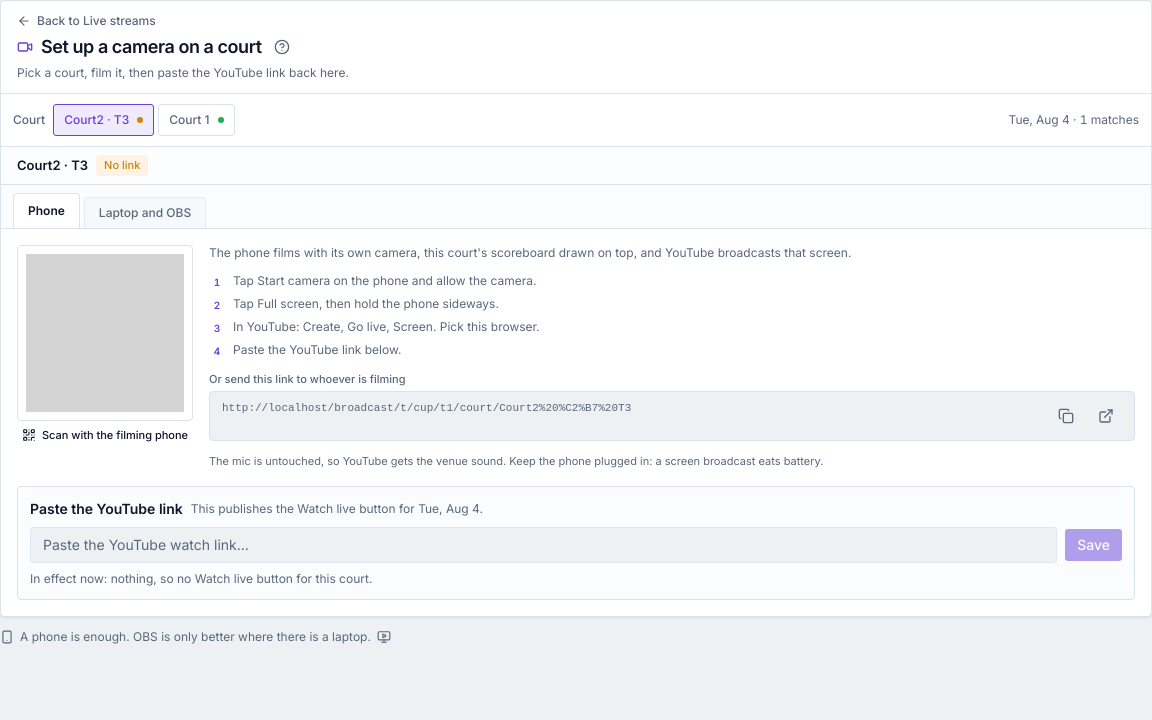
Test case: StreamSetupPage › keeps the load-bearing OBS settings, one lookup away
The width and height of the screenshot is (1152, 720).
Click the tab with test id "setup-method-obs" at x=145, y=212, box [84,196,206,228]
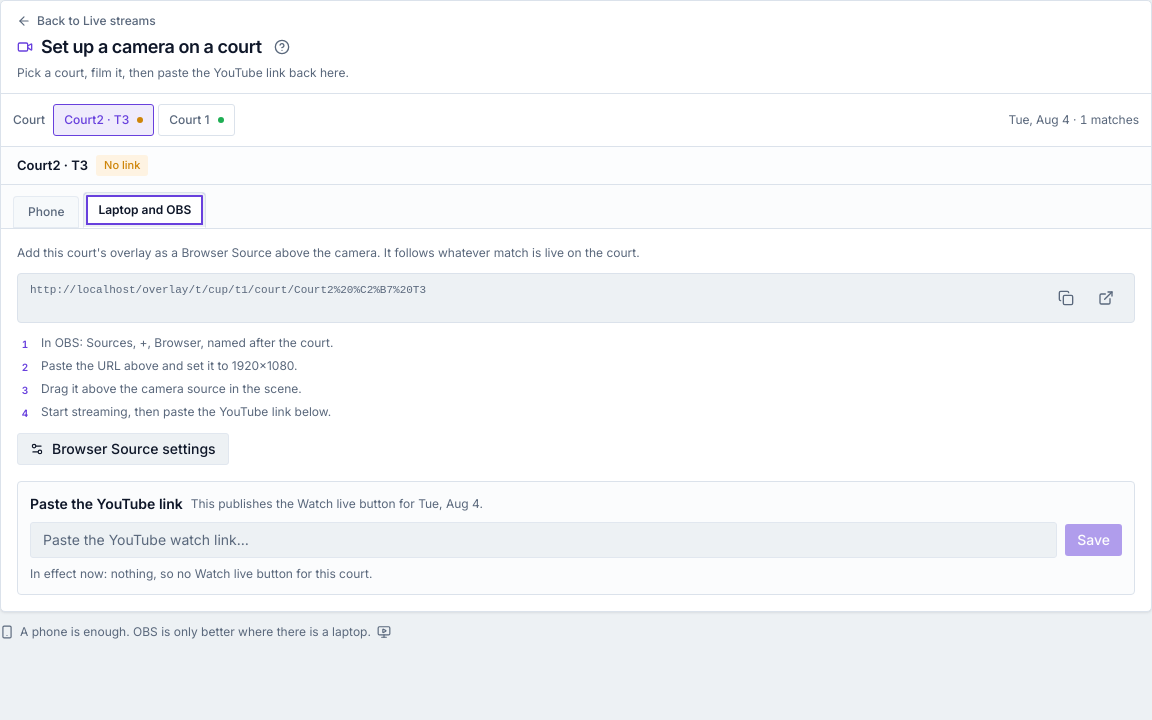
Click the button "Browser Source settings" at x=123, y=448, box [17,432,229,464]
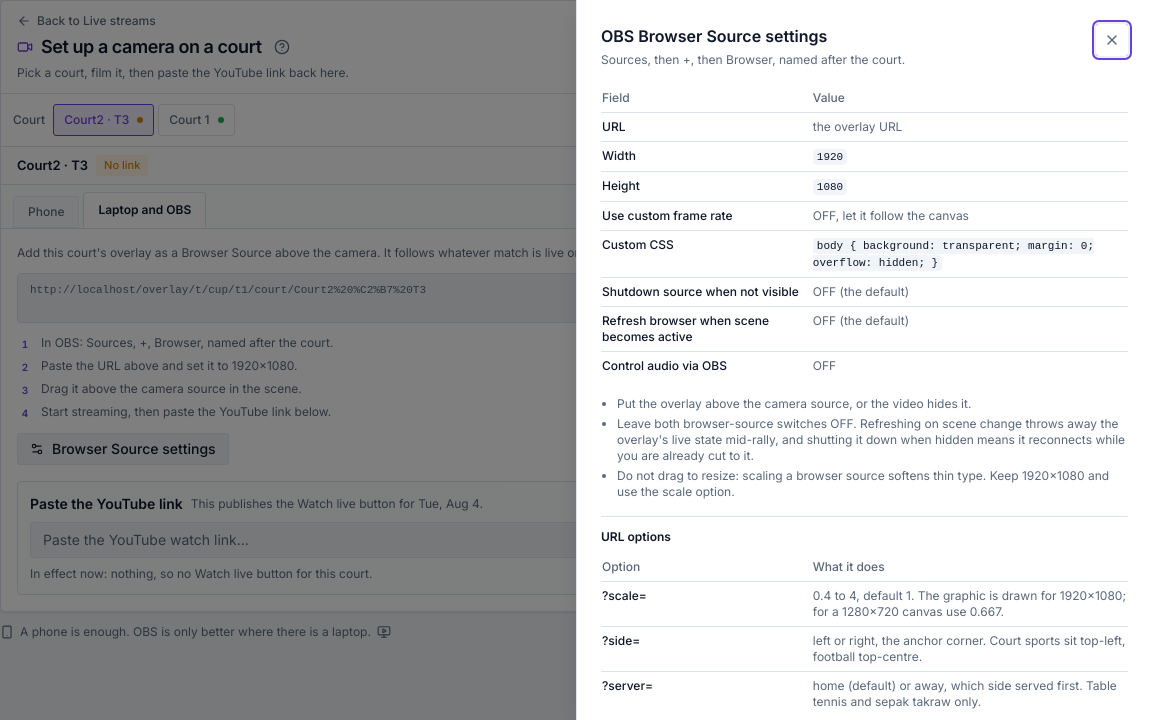
Expected: the element with test id "setup-obs-dialog" shows "above the camera source", [617,396,971,411]
Expected: the element with test id "setup-obs-dialog" shows "live state mid-rally", [617,416,1125,463]
